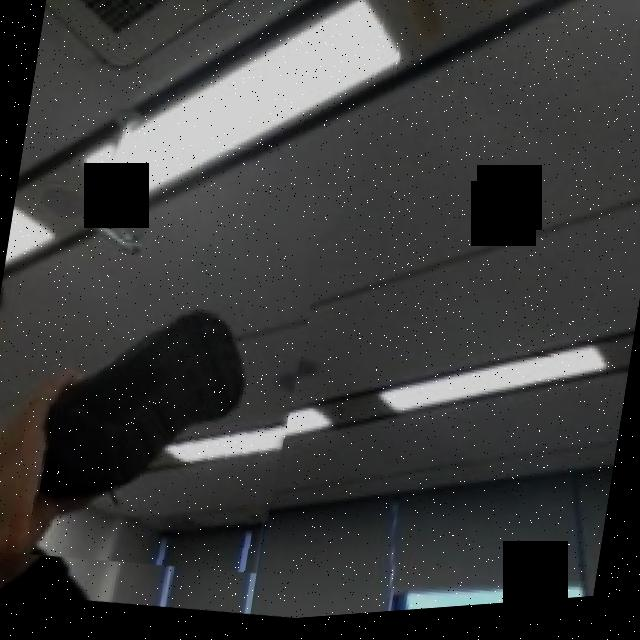shoe: (6, 241, 316, 595)
